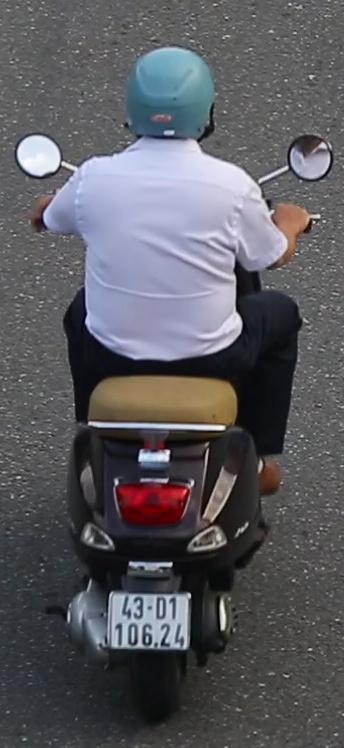LP: (105, 589, 194, 658)
helmet: (120, 38, 220, 164)
